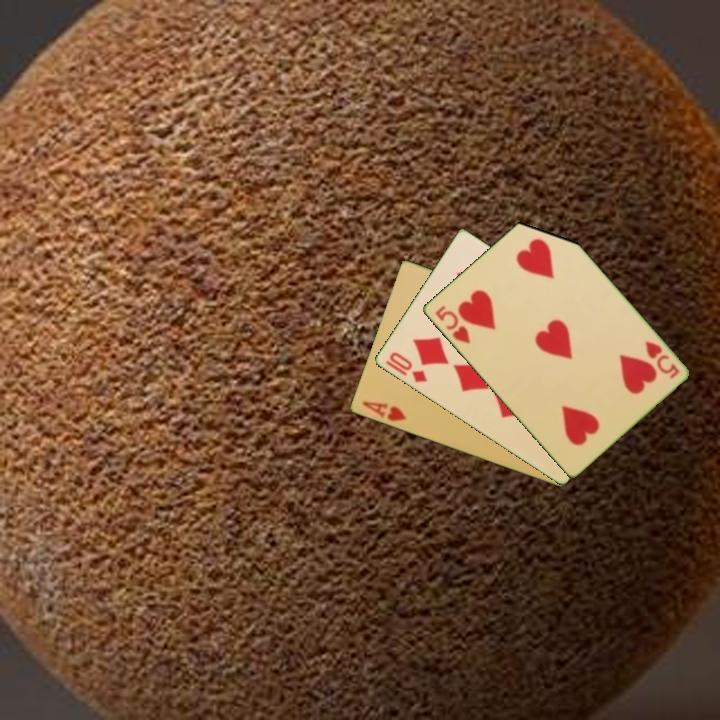10d: (385, 348, 430, 386)
5h: (641, 337, 682, 382), (431, 302, 472, 346)
Ah: (358, 398, 409, 424)
